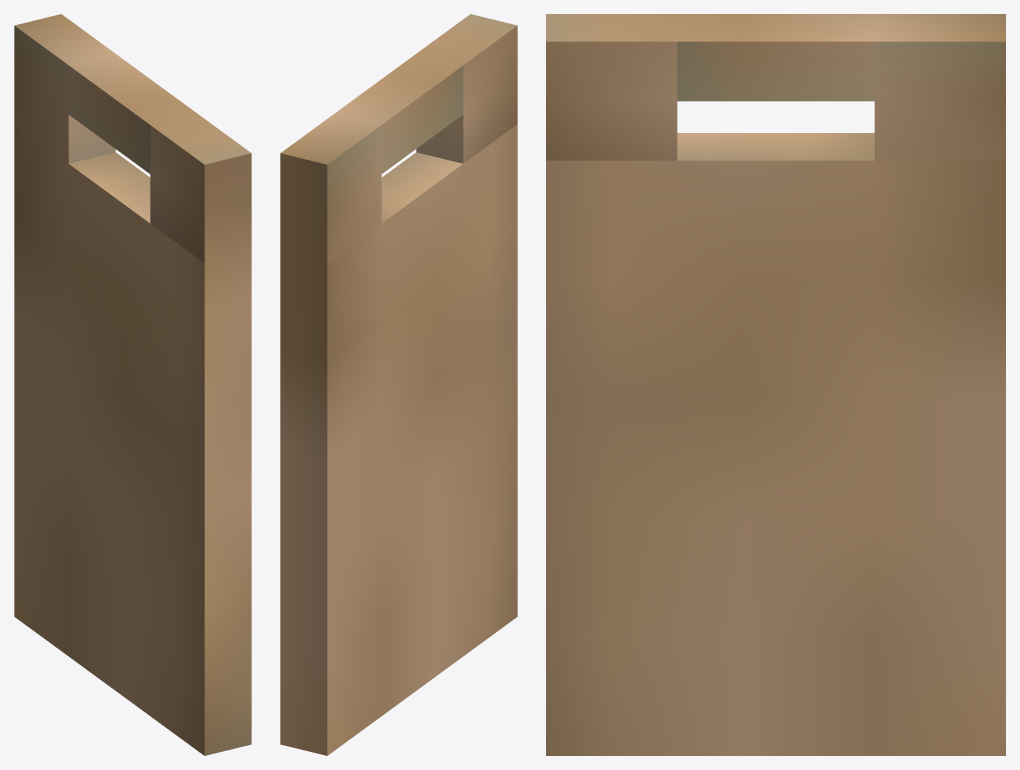
Rendered from ChoppingBoard_00.obj.
3 views of the same model, side by side, from view 1: azimuth 30°, elevation 25°; view 2: azimuth 150°, elevation 25°; view 3: azimuth 270°, elevation 25° (orthographic). The views are drawn at different scales.
Parts seen in each view (by area): view 1: ChoppingBoard_00; view 2: ChoppingBoard_00; view 3: ChoppingBoard_00.
Boxes of the visible parts, x1,y1,x2,y2 form: ChoppingBoard_00: [14, 14, 251, 755]; ChoppingBoard_00: [280, 14, 517, 755]; ChoppingBoard_00: [546, 14, 1005, 755].
Size of the model in its own units: 0.05 by 0.6 by 0.35.
